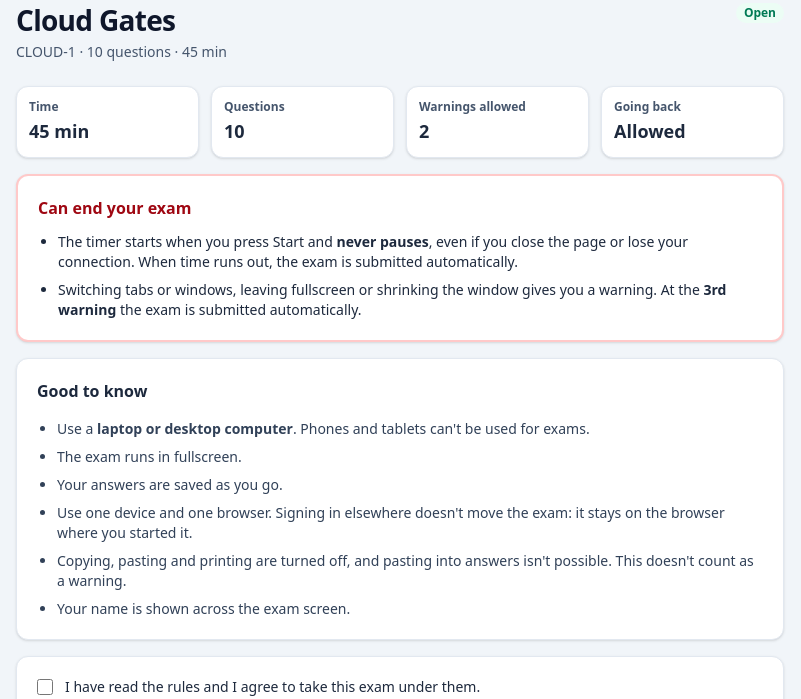
the exam brief on unsupported devices › doesn't start the timer when the browser refuses fullscreen
Click the checkbox: click(45, 687) [37, 679, 53, 695]
(page scrolled)
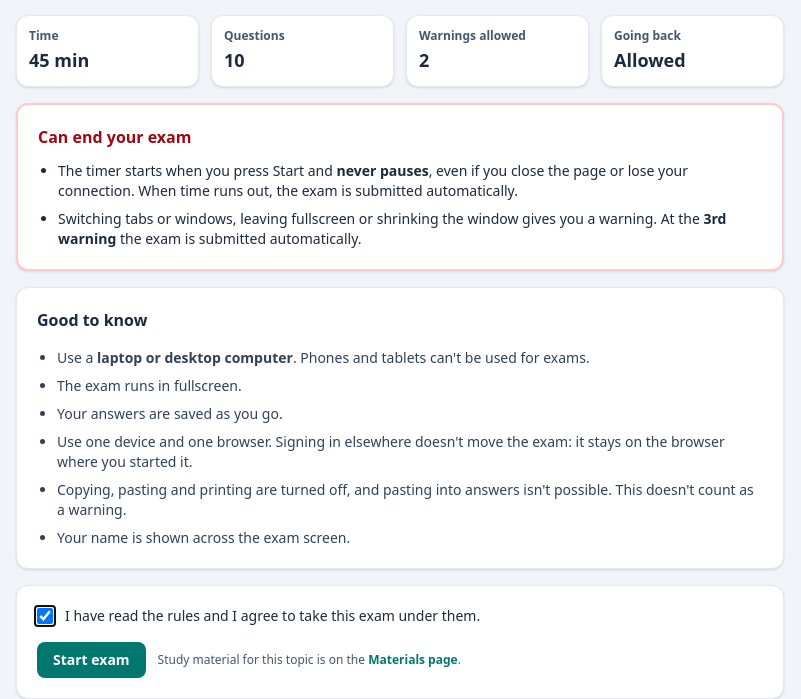
Click the button "Start exam": click(91, 660) [37, 642, 146, 678]
(page scrolled)
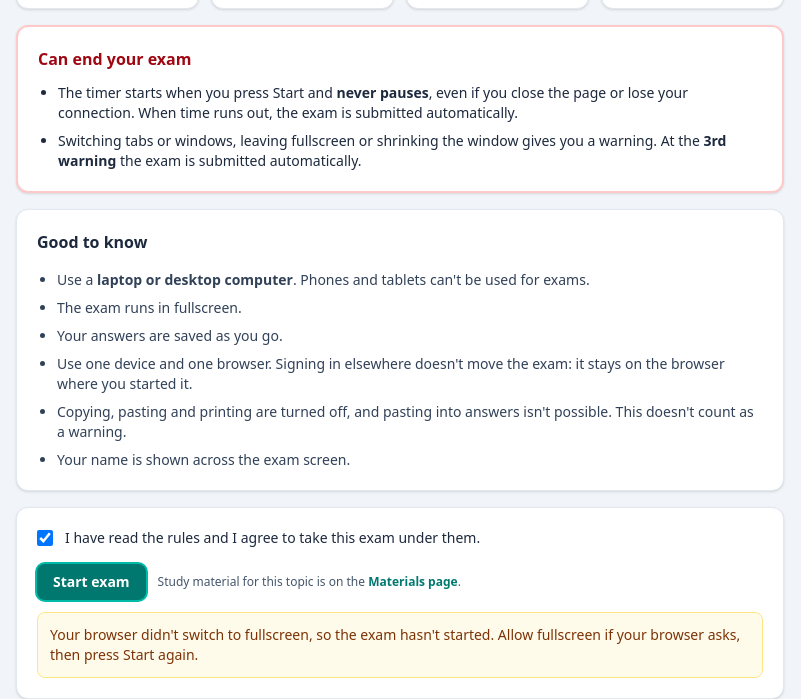
Expected: the text "didn't switch to fullscreen" is shown, [50, 625, 740, 664]
